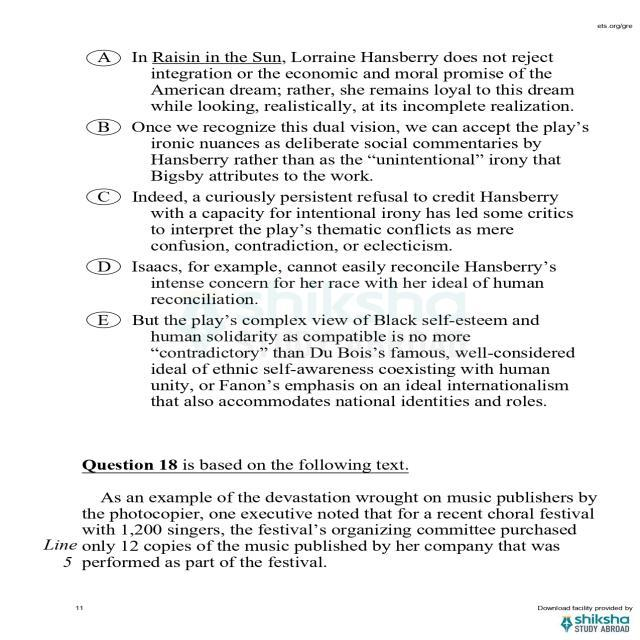Answer_Block: (36, 30, 619, 420)
Question_Answer_Block: (36, 30, 619, 420), (32, 444, 624, 588)
Question_Block: (32, 31, 624, 588), (32, 444, 624, 588)
